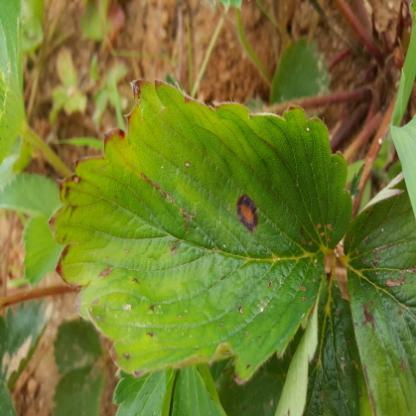Strawberry_Leaf_Spot: (46, 78, 354, 386)
